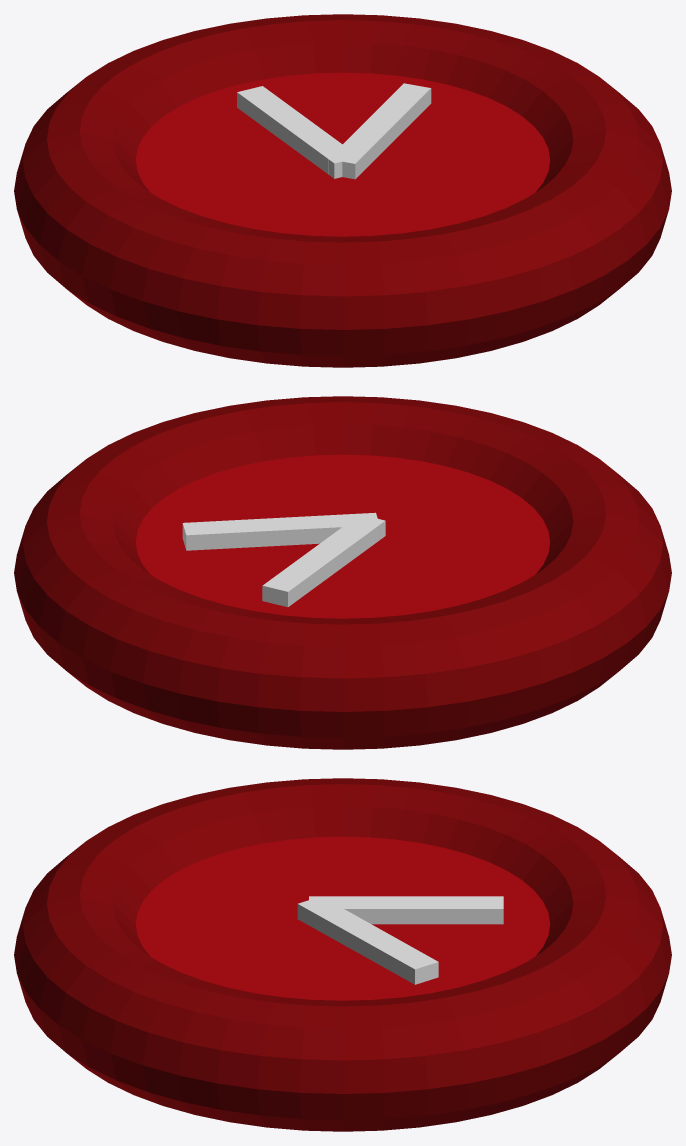
The model's file is Clock_SubtractTime.fbx.
3 renders of one model, top to bottom at view 1: azimuth 30°, elevation 25°; view 2: azimuth 150°, elevation 25°; view 3: azimuth 270°, elevation 25°, orthographic.
Visible parts, largest first — view 1: Clock_SubtractTime; view 2: Clock_SubtractTime; view 3: Clock_SubtractTime.
Boxes of the visible parts, box(x1,y1,x2,y2) form: Clock_SubtractTime: box(14, 14, 671, 367); Clock_SubtractTime: box(14, 396, 671, 749); Clock_SubtractTime: box(14, 778, 671, 1131).
Size of the model in its own units: 2.5 by 0.5 by 2.5.
